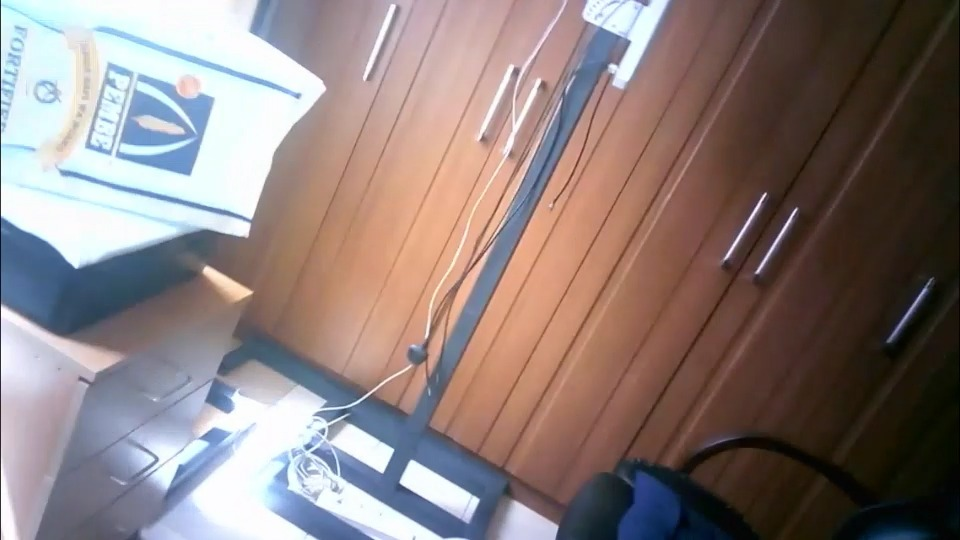wheat_flour_blue_label: (0, 2, 327, 231)
